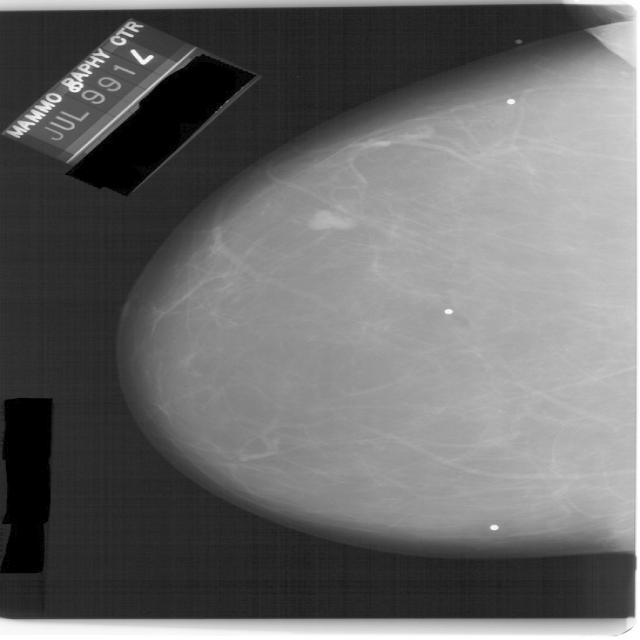tumour: (306, 210, 356, 232)
